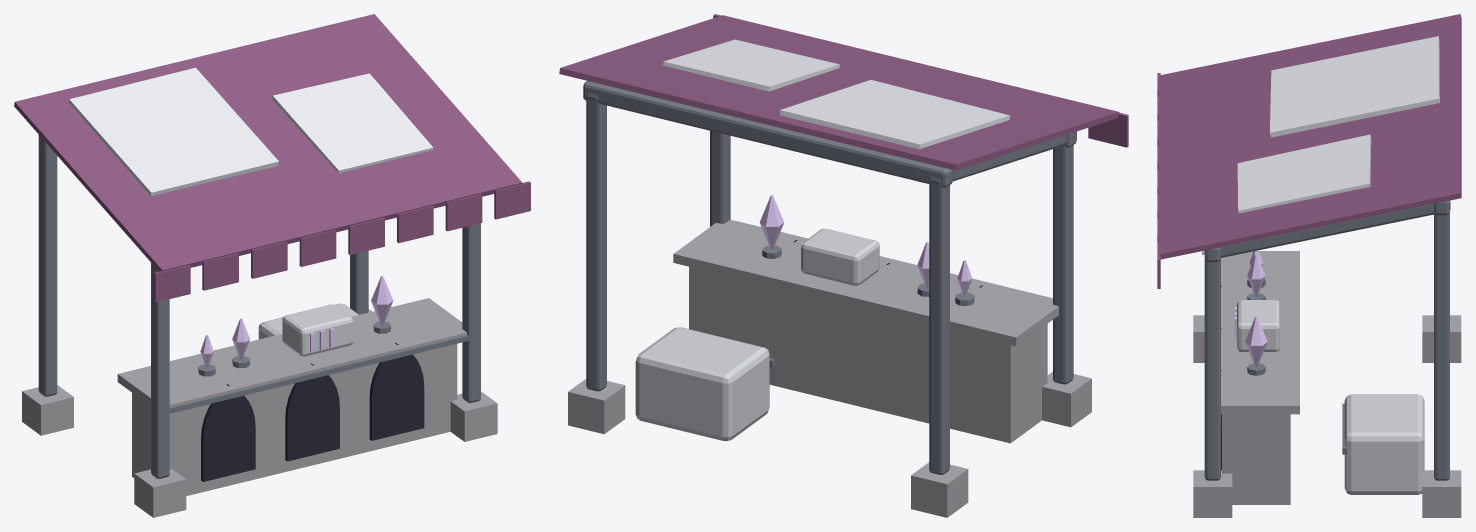
File: PR_Tenda_Feira.fbx
3 views of the same model, side by side, from view 1: azimuth 30°, elevation 25°; view 2: azimuth 150°, elevation 25°; view 3: azimuth 270°, elevation 25° (orthographic). The views are drawn at different scales.
Parts seen in each view (by area): view 1: PR_Tenda_Feira; view 2: PR_Tenda_Feira; view 3: PR_Tenda_Feira.
Part boxes in pixels (<box>): PR_Tenda_Feira: <box>14,14,530,517</box>; PR_Tenda_Feira: <box>559,14,1128,517</box>; PR_Tenda_Feira: <box>1157,14,1461,517</box>.
Bounding box in the file's own units: 3.86 × 3.17 × 2.66.
